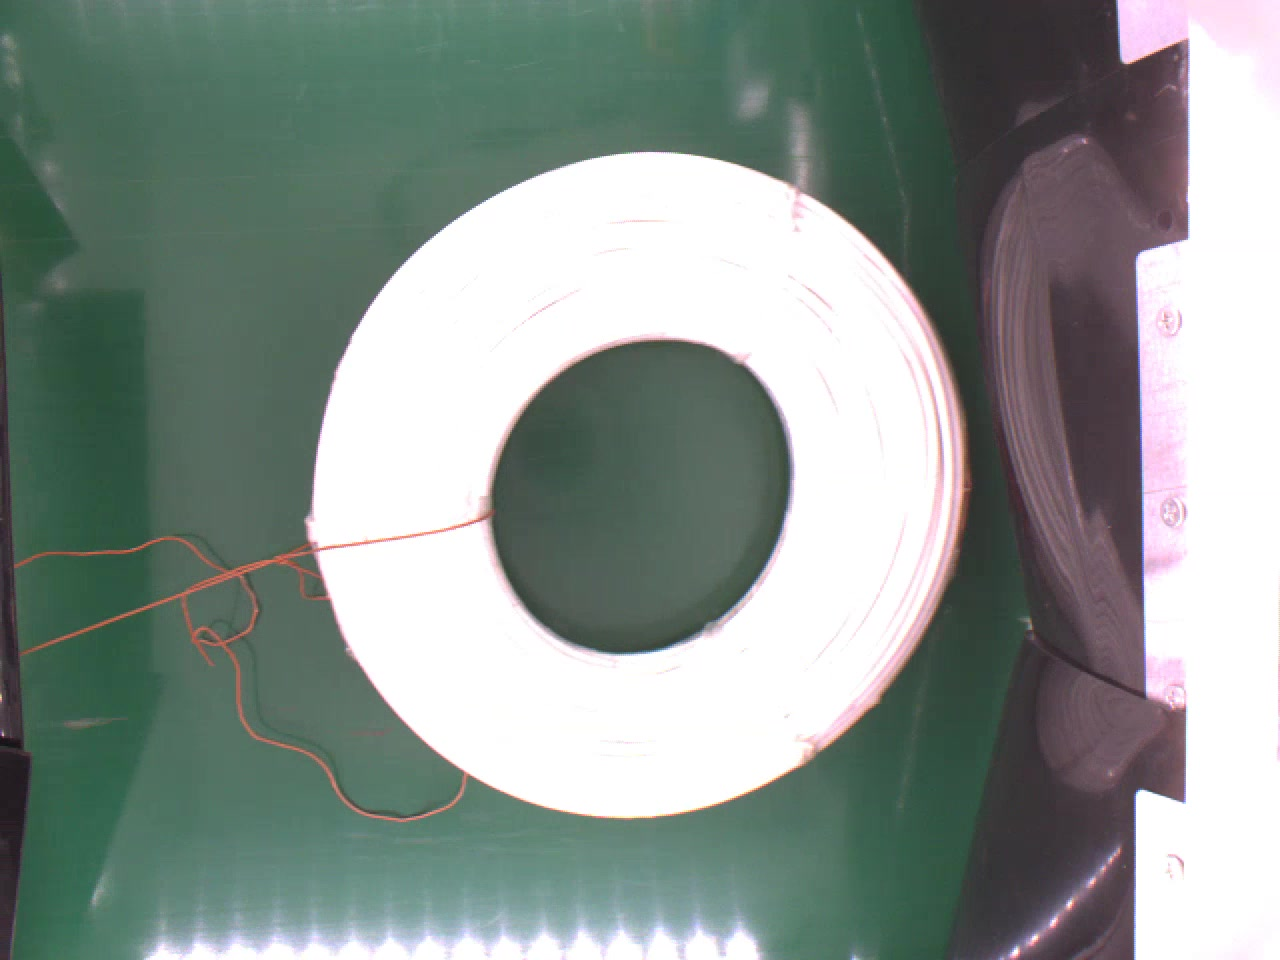white: (304, 148, 972, 818)
